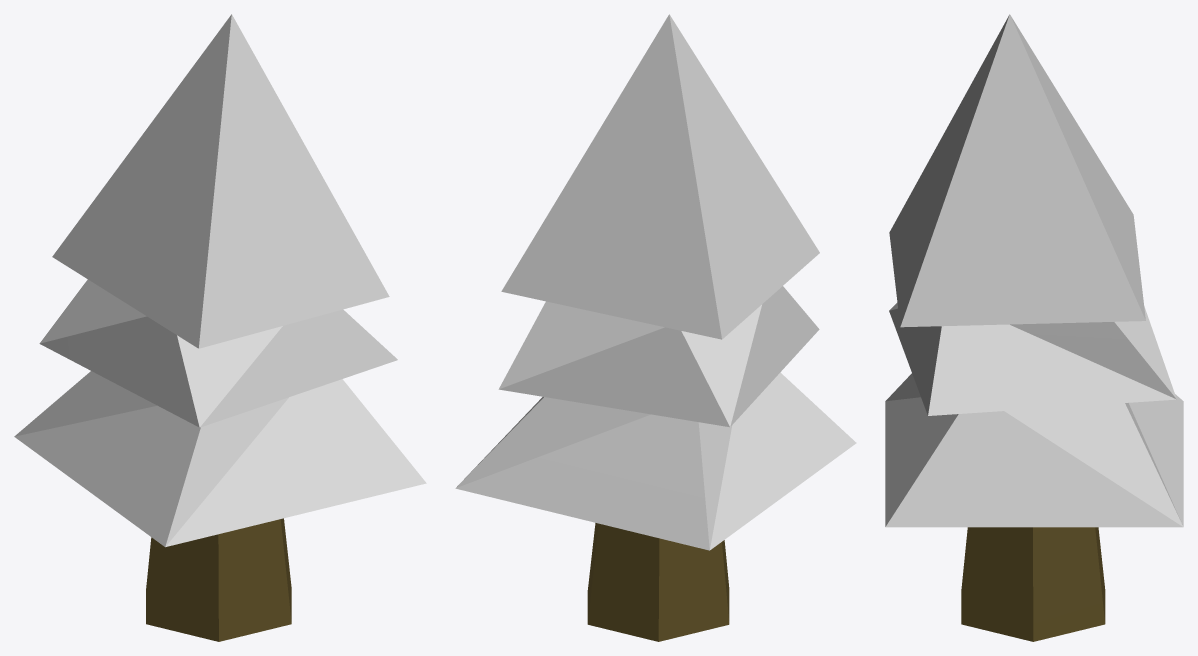
The model's file is Vegetation_Tree_Pine_Winter_01.fbx.
The picture shows the model from 3 angles, left to right: view 1: azimuth 30°, elevation 25°; view 2: azimuth 150°, elevation 25°; view 3: azimuth 270°, elevation 25°; orthographic projection. The views are drawn at different scales.
Visible parts, largest first — view 1: Vegetation_Tree_Pine_Winter_01; view 2: Vegetation_Tree_Pine_Winter_01; view 3: Vegetation_Tree_Pine_Winter_01.
Part boxes in pixels (bbox=[...]): Vegetation_Tree_Pine_Winter_01: bbox=[14, 14, 426, 641]; Vegetation_Tree_Pine_Winter_01: bbox=[455, 14, 856, 641]; Vegetation_Tree_Pine_Winter_01: bbox=[885, 14, 1183, 641].
Bounding box in the file's own units: 77.55 × 170 × 77.55.
